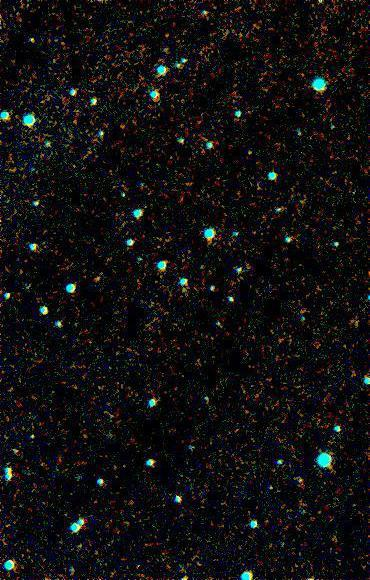star: (84, 262, 114, 292)
